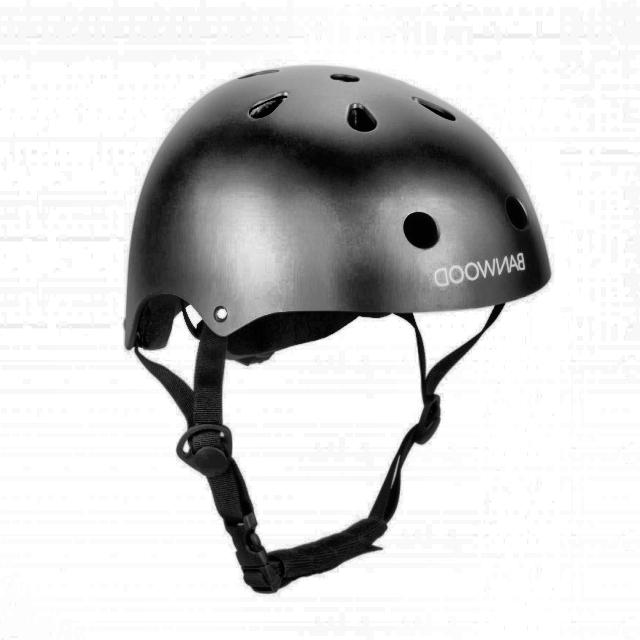Helmet: (118, 60, 561, 608)
